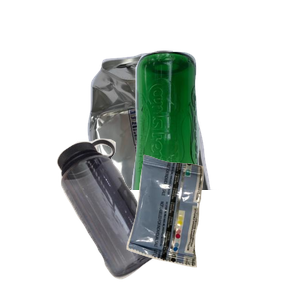glass: (129, 49, 300, 229)
metal: (85, 48, 300, 228)
plastic: (54, 136, 209, 300)
trash: (124, 152, 300, 300)
